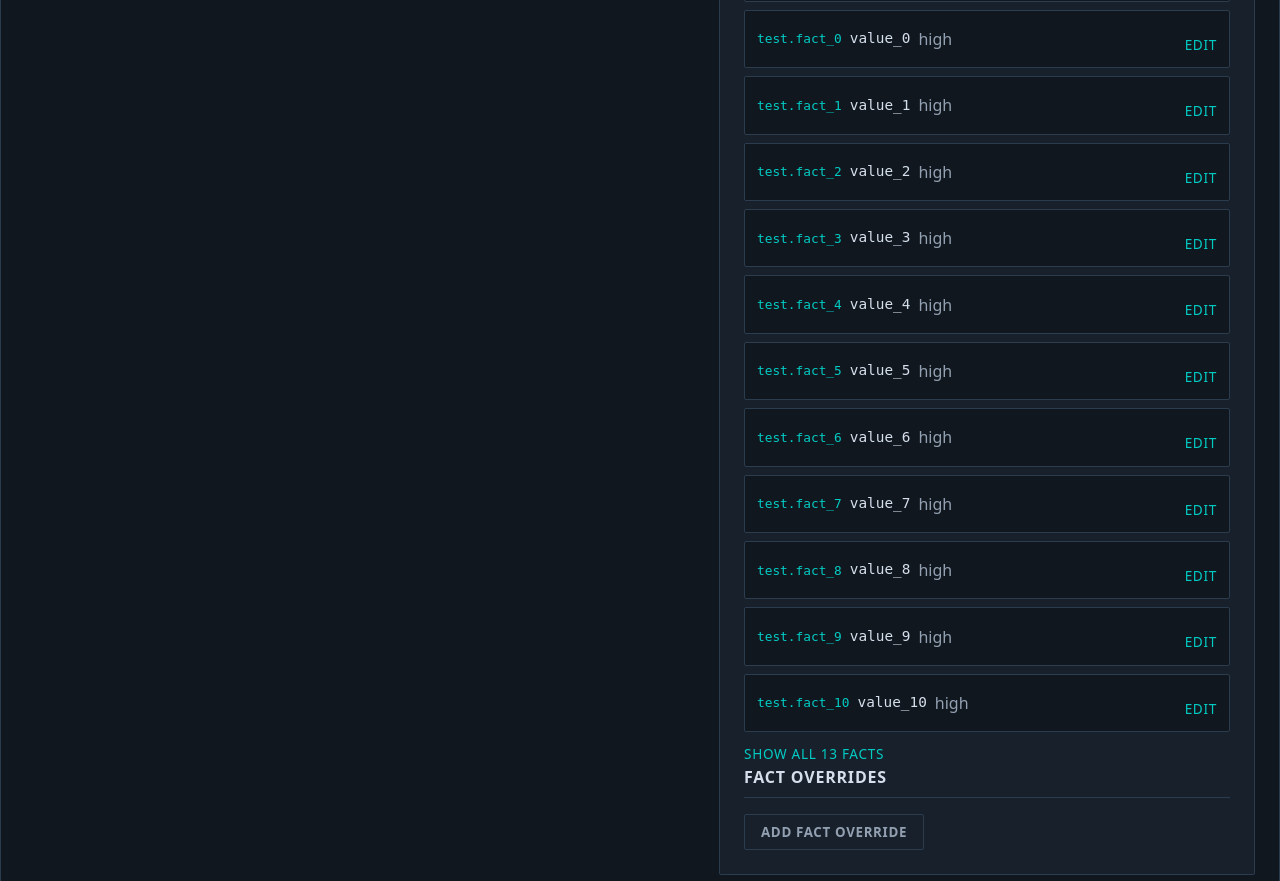
loads persisted runs and facts on the runs page
(page scrolled)
Expected: the text "test.fact_11" is not shown
Click the button "Show all 13 facts" at (814, 754), box [744, 744, 884, 765]
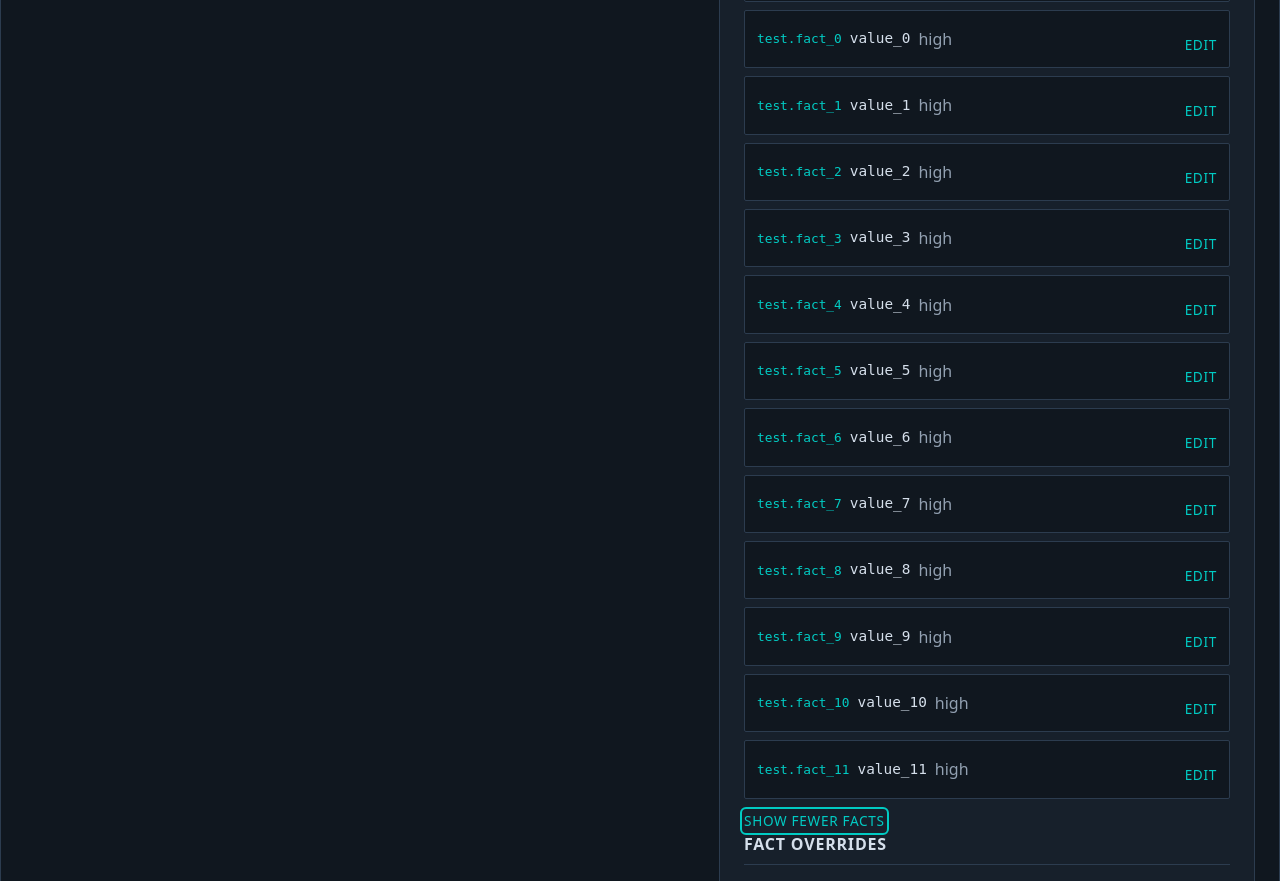
Expected: the text "test.fact_11" is shown, [757, 760, 850, 779]
Expected: the button "Show fewer facts" is shown, [744, 810, 885, 831]
